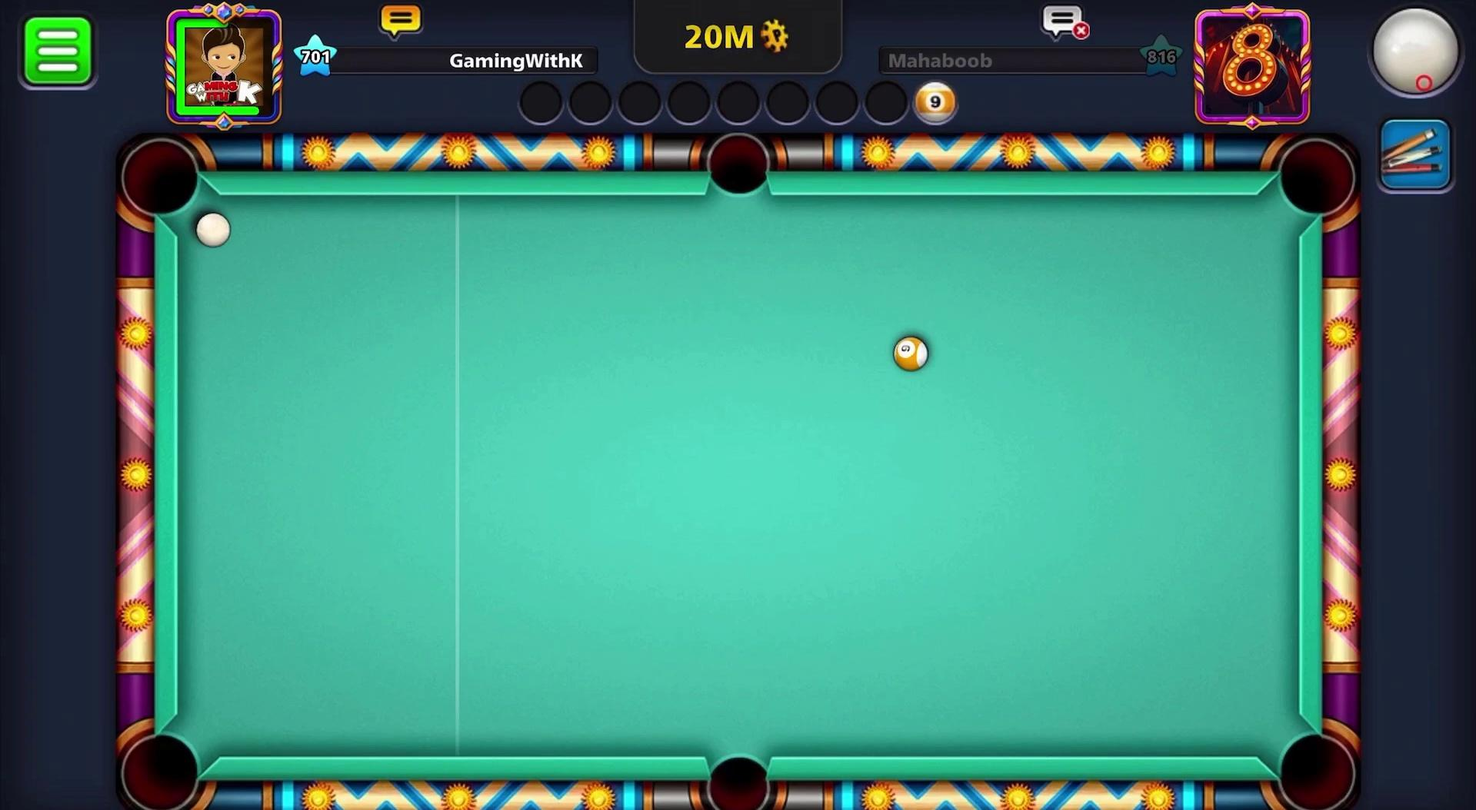Ball: (890, 328, 932, 378)
Hole: (106, 126, 225, 241), (1268, 131, 1365, 231), (110, 719, 213, 809), (1264, 719, 1364, 809), (685, 734, 786, 809), (694, 130, 783, 210)
Play_Area: (176, 195, 1299, 759)
Spin: (1345, 0, 1475, 119)
White: (186, 206, 235, 251)
